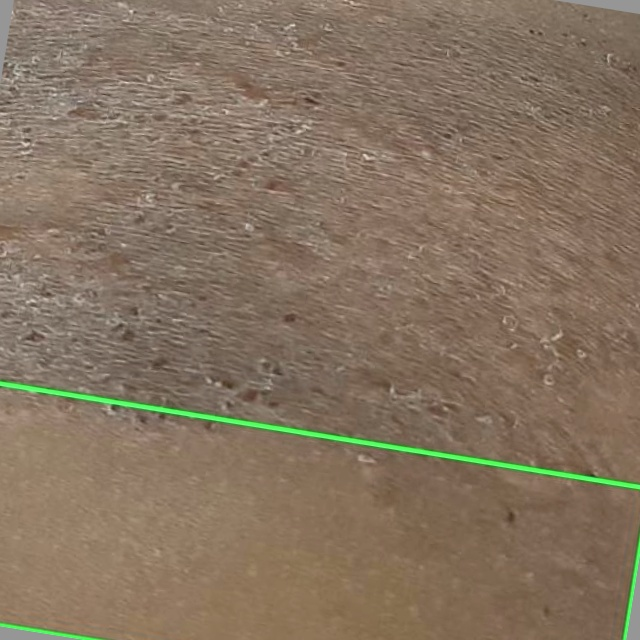Tinea Corporis: (0, 383, 639, 639)
